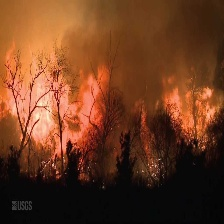fire: (4, 50, 109, 152), (163, 83, 218, 141), (135, 105, 162, 150)
smoke: (3, 2, 224, 93)
